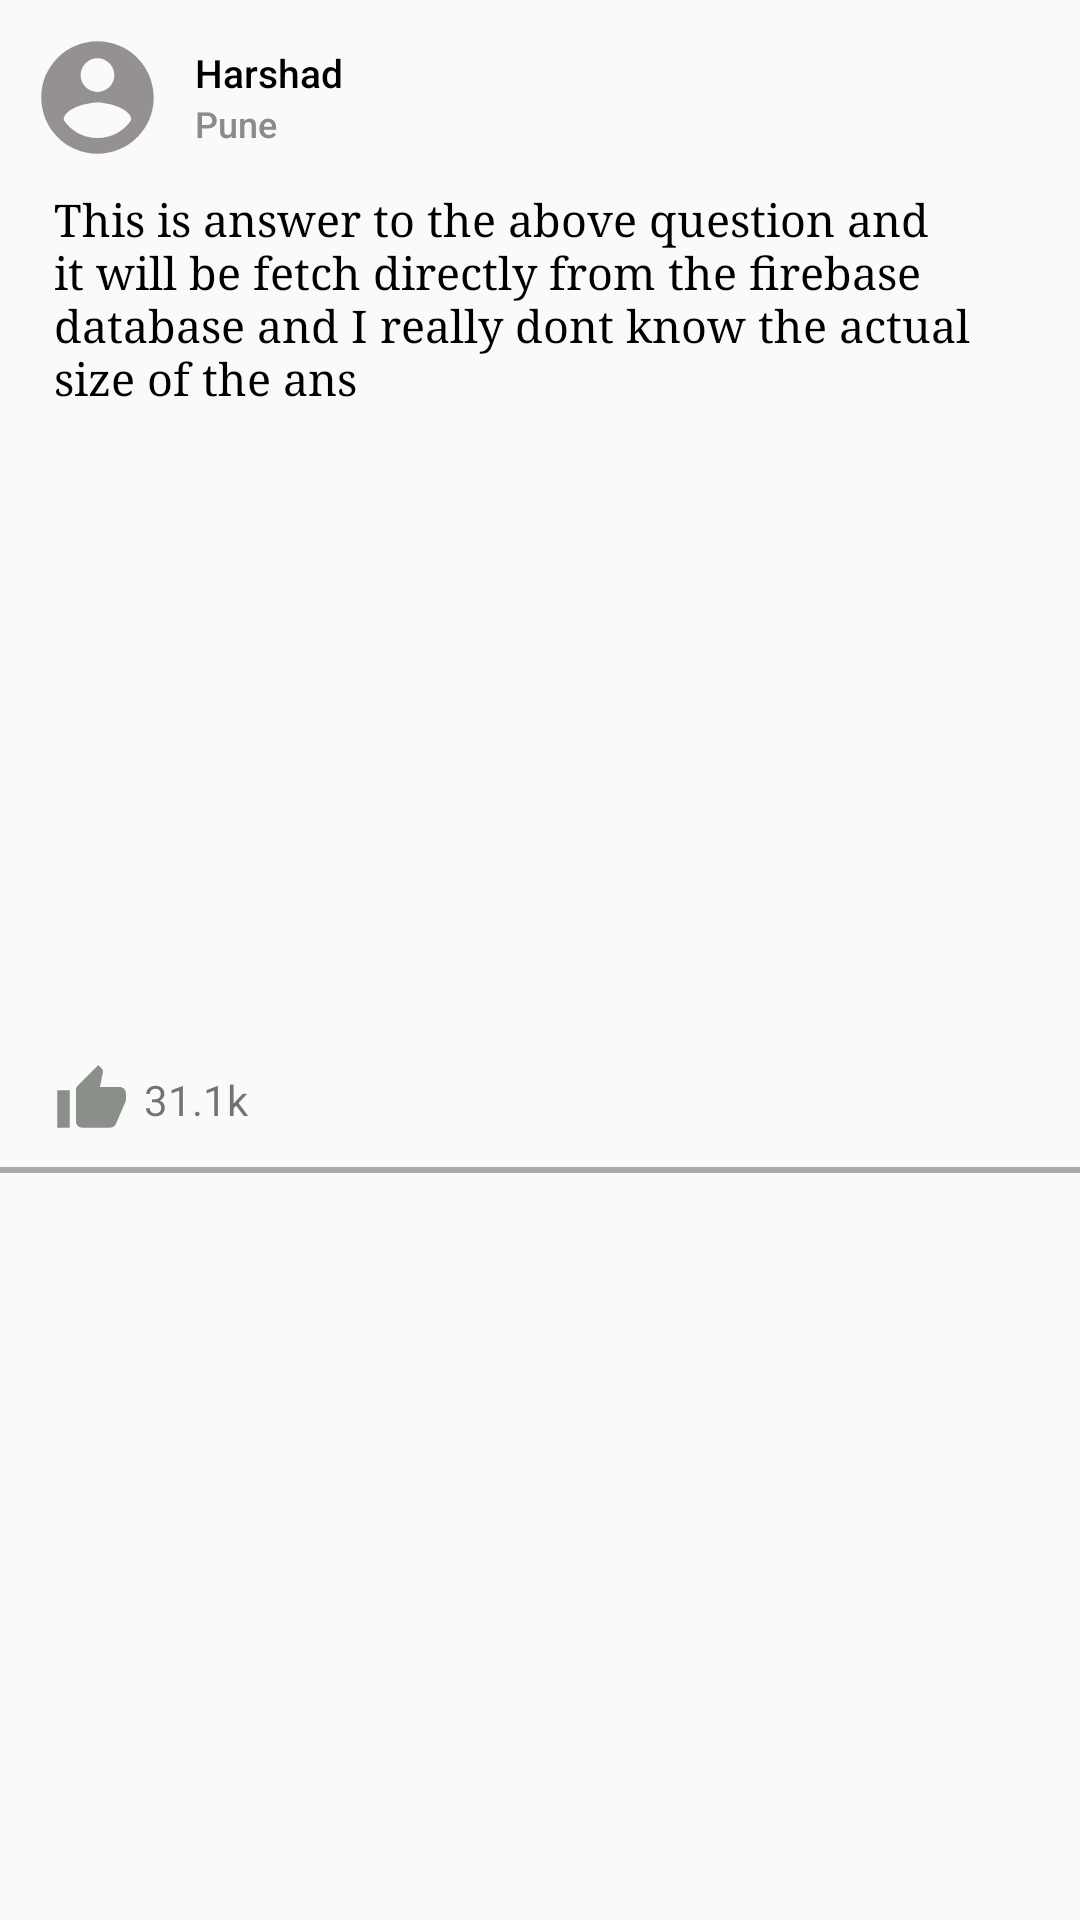

Point at icon controls on the screen. Image size 1080 x 1920, points as (x=x, y=y).
forun user: (x=97, y=97)
upvote: (x=91, y=1096)
